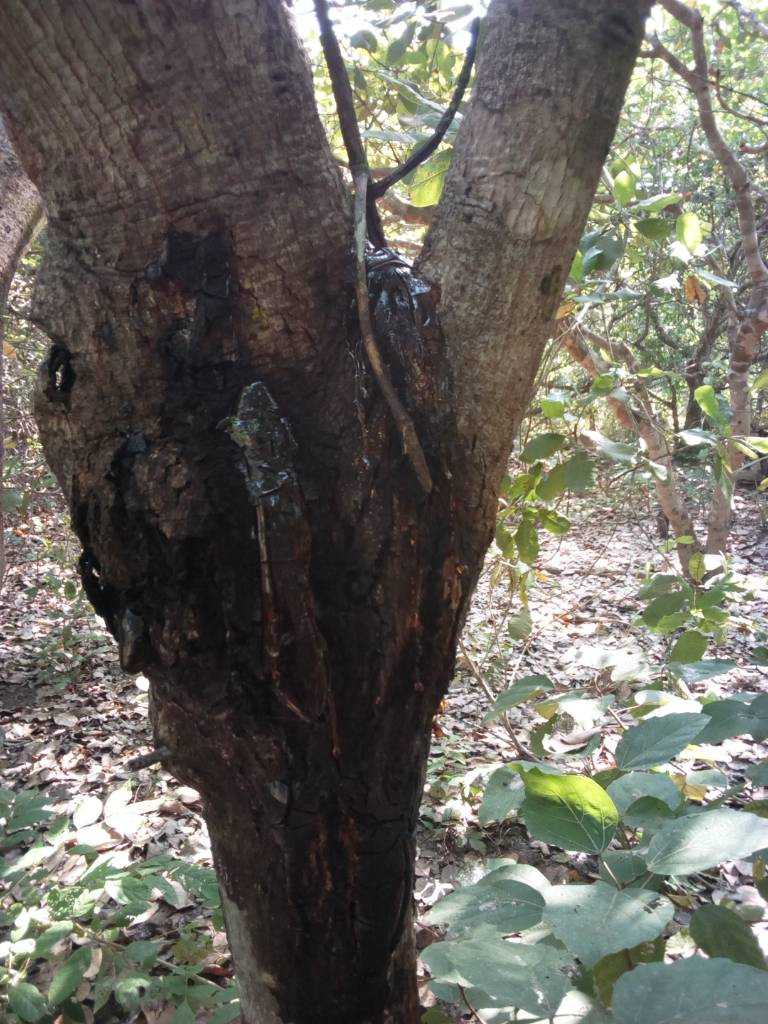Gommose: (121, 221, 465, 925)
